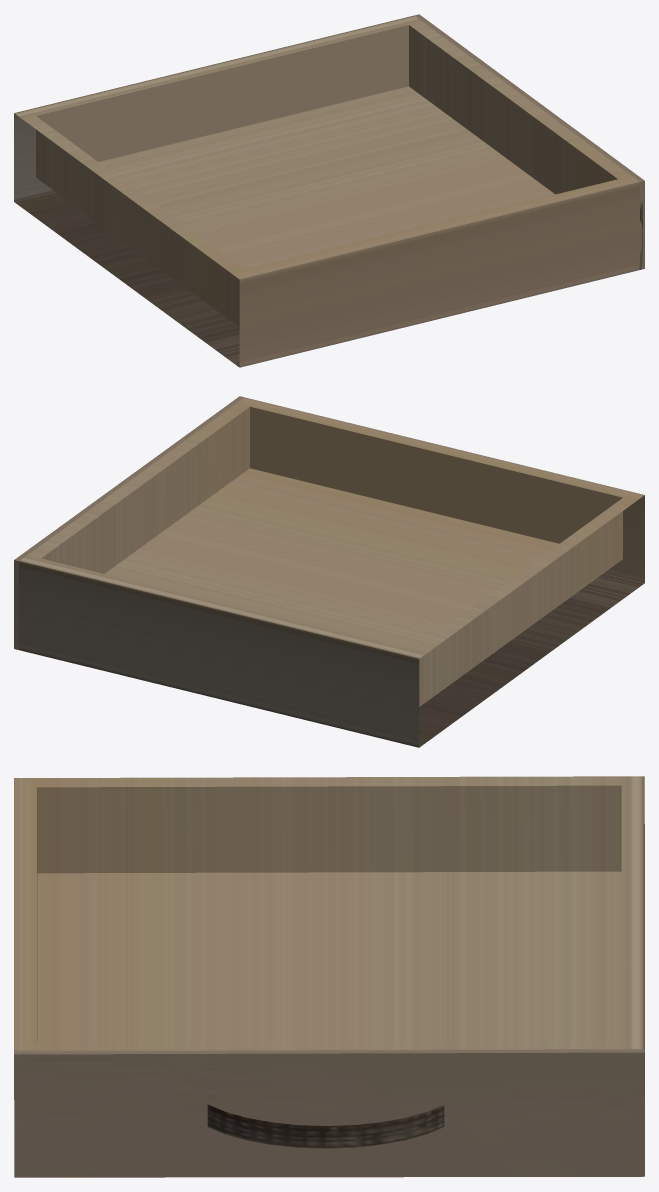
The model's file is vanity_drawer.glb.
3 views of the same model, one above another, from view 1: azimuth 30°, elevation 25°; view 2: azimuth 150°, elevation 25°; view 3: azimuth 270°, elevation 25° (orthographic). The views are drawn at different scales.
Parts seen in each view (by area): view 1: Cube.002; view 2: Cube.002; view 3: Cube.002.
Boxes of the visible parts, left/top/right/bottom form: Cube.002: left=14, top=14, right=644, bottom=367; Cube.002: left=14, top=396, right=644, bottom=747; Cube.002: left=14, top=776, right=644, bottom=1177.
Size of the model in its own units: 1.03 by 0.2009 by 0.9182.
Materials: 1 (1 with a texture image).
